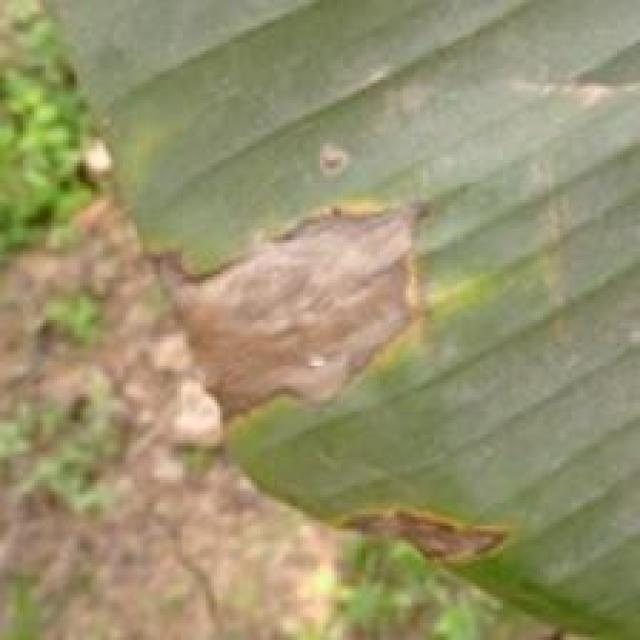Bacterial_spot: (138, 194, 446, 432), (332, 478, 526, 590), (513, 137, 600, 342), (497, 63, 640, 123), (306, 128, 351, 197)
